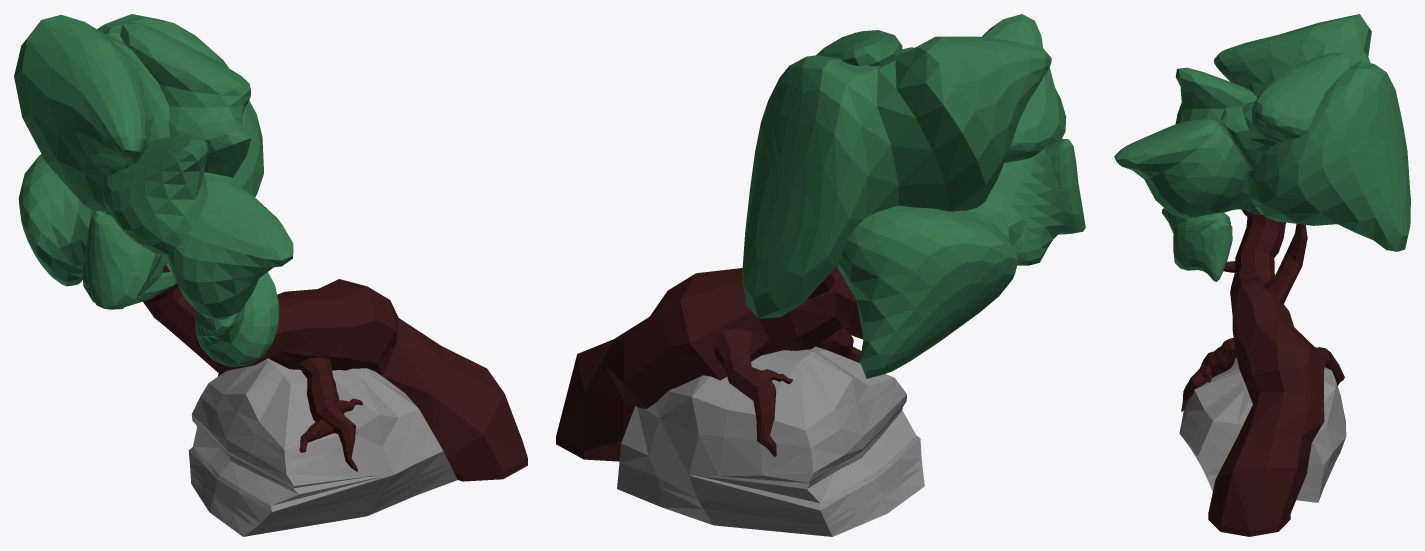
The model's file is 01_treeD_01.fbx.
3 renders of one model, left to right at view 1: azimuth 30°, elevation 25°; view 2: azimuth 150°, elevation 25°; view 3: azimuth 270°, elevation 25°, orthographic. The views are drawn at different scales.
Visible parts, largest first — view 1: _treeCopaD, _StoneC, _treeTroncoD; view 2: _treeCopaD, _StoneC, _treeTroncoD; view 3: _treeCopaD, _treeTroncoD, _StoneC.
Boxes of the visible parts, box(x1,y1,x2,y2) form: _treeCopaD: box(14, 14, 293, 367); _StoneC: box(188, 358, 457, 536); _treeTroncoD: box(143, 265, 527, 481); _treeCopaD: box(742, 14, 1085, 378); _StoneC: box(617, 346, 924, 536); _treeTroncoD: box(556, 267, 863, 461); _treeCopaD: box(1114, 14, 1410, 281); _treeTroncoD: box(1181, 209, 1344, 536); _StoneC: box(1179, 358, 1346, 502).
Bounding box in the file's own units: 10.89 × 11.33 × 8.05.
